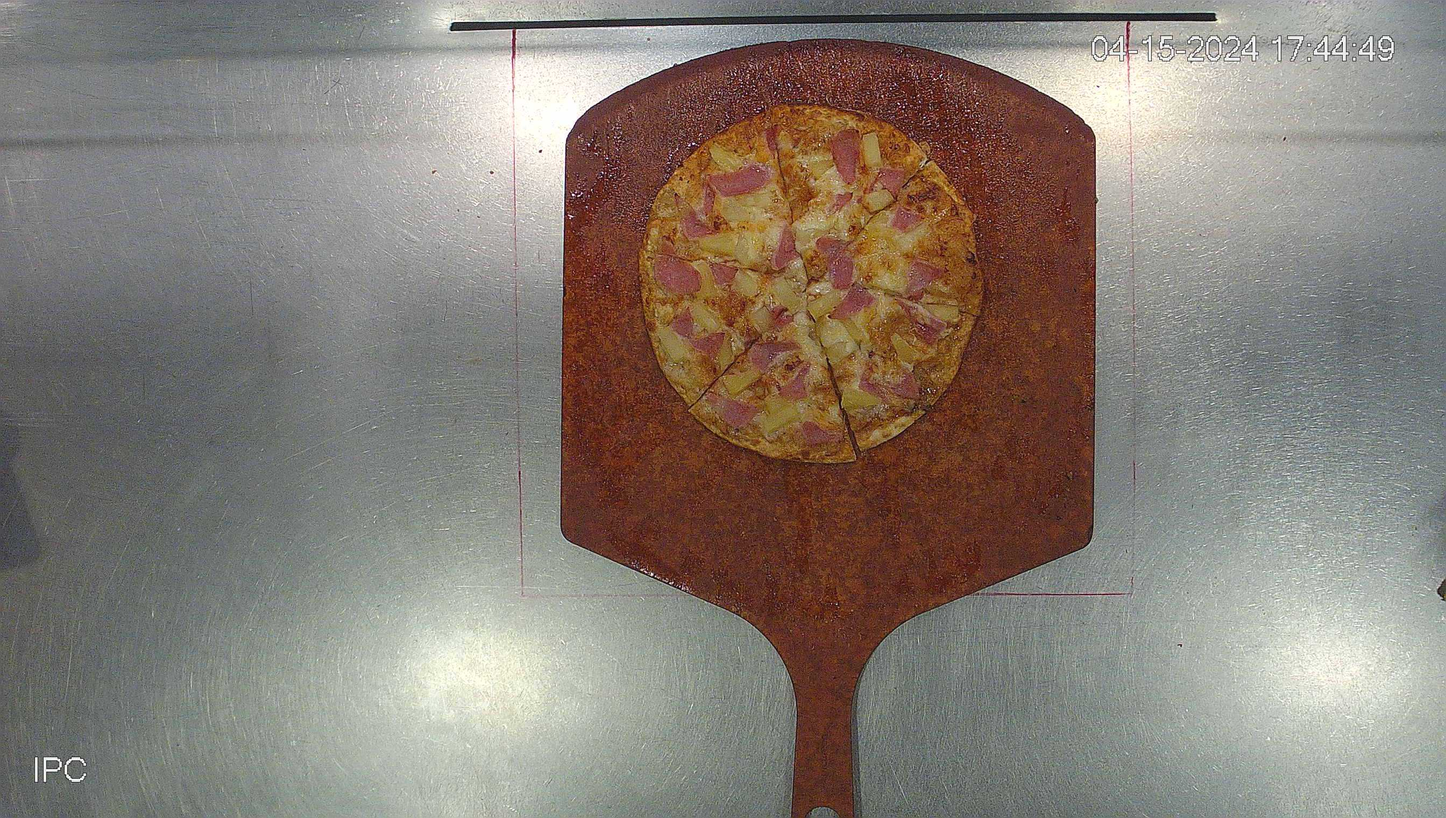manager_choice: (638, 106, 982, 463)
